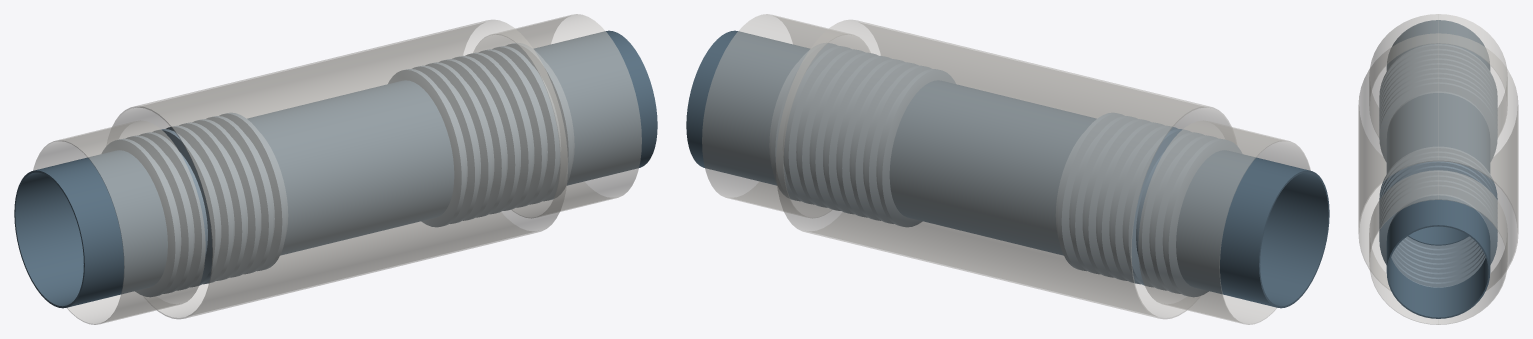
The model's file is 2ppu-dn500-L2484-D530-k-o820.glb.
3 views of the same model, side by side, from view 1: azimuth 30°, elevation 25°; view 2: azimuth 150°, elevation 25°; view 3: azimuth 270°, elevation 25° (orthographic). The views are drawn at different scales.
Parts seen in each view (by area): view 1: uslovno_kozhuh_ppu, prokladka_silfon_2, prokladka_silfon_1, patrubok_1, uslovno_obolochka_l, uslovno_obolochka_r, patrubok_3, patrubok_4, patrubok_2; view 2: uslovno_kozhuh_ppu, prokladka_silfon_2, prokladka_silfon_1, patrubok_1, uslovno_obolochka_l, uslovno_obolochka_r, patrubok_3, patrubok_4, patrubok_2; view 3: uslovno_kozhuh_ppu, prokladka_silfon_2, patrubok_4, prokladka_silfon_1, uslovno_obolochka_r, uslovno_obolochka_l, patrubok_2, patrubok_3, patrubok_1.
Boxes of the visible parts, x1,y1,x2,y2 form: uslovno_kozhuh_ppu: (112,19,567,319); prokladka_silfon_2: (388,43,574,227); prokladka_silfon_1: (101,112,288,297); patrubok_1: (14,150,167,308); uslovno_obolochka_l: (33,120,205,324); uslovno_obolochka_r: (473,14,641,218); patrubok_3: (322,80,454,237); patrubok_4: (534,30,657,185); patrubok_2: (247,100,371,255); uslovno_kozhuh_ppu: (776,19,1231,319); prokladka_silfon_2: (769,43,955,227); prokladka_silfon_1: (1055,112,1242,297); patrubok_1: (1176,150,1329,308); uslovno_obolochka_l: (1138,120,1310,324); uslovno_obolochka_r: (702,14,870,218); patrubok_3: (889,80,1021,237); patrubok_4: (686,30,809,185); patrubok_2: (972,100,1096,255); uslovno_kozhuh_ppu: (1358,33,1518,290); prokladka_silfon_2: (1379,146,1497,287); patrubok_4: (1386,195,1490,318); prokladka_silfon_1: (1379,44,1497,161); uslovno_obolochka_r: (1369,170,1507,324); uslovno_obolochka_l: (1369,14,1507,136); patrubok_2: (1386,93,1490,167); patrubok_3: (1386,122,1490,245); patrubok_1: (1386,20,1490,70).
Size of the model in its own units: 2484 by 820 by 820.
